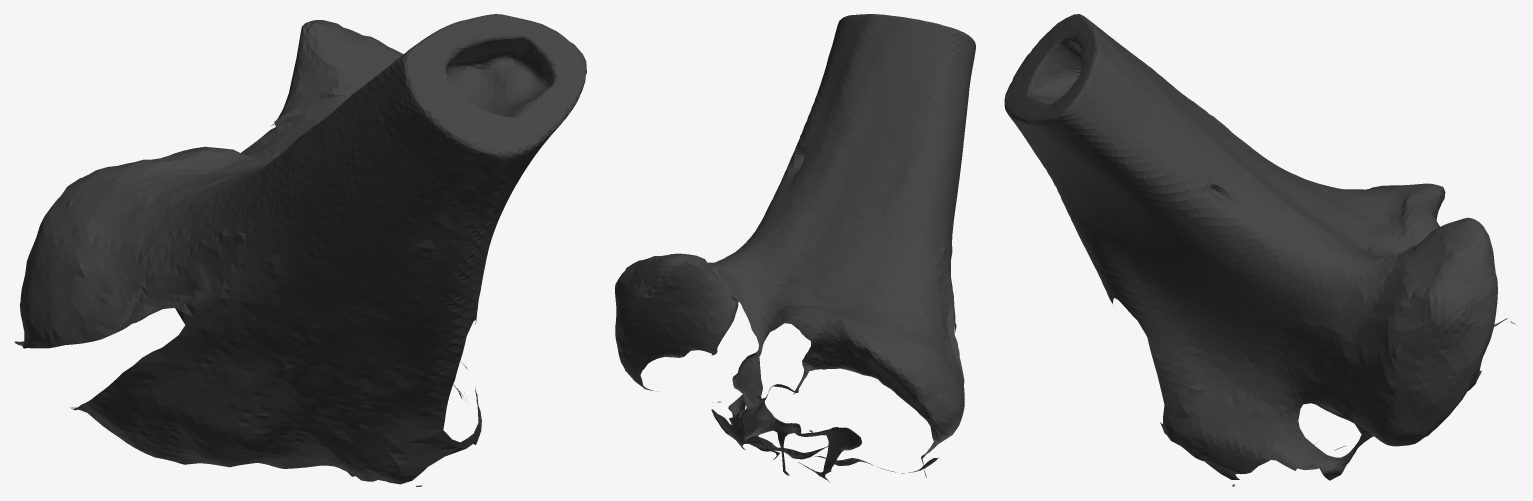
File: tibia_menisci_cow.glb
The picture shows the model from 3 angles, left to right: view 1: azimuth 30°, elevation 25°; view 2: azimuth 150°, elevation 25°; view 3: azimuth 270°, elevation 25°; orthographic projection. The views are drawn at different scales.
Parts seen in each view (by area): view 1: tibia_menisci_cow; view 2: tibia_menisci_cow; view 3: tibia_menisci_cow.
Part boxes in pixels (left/top/right/bottom): tibia_menisci_cow: left=14, top=14, right=586, bottom=486; tibia_menisci_cow: left=615, top=14, right=975, bottom=482; tibia_menisci_cow: left=1004, top=14, right=1515, bottom=486.
Bounding box in the file's own units: 0.00828 × 0.00967 × 0.0102.
Materials: 1 (1 with a texture image).
